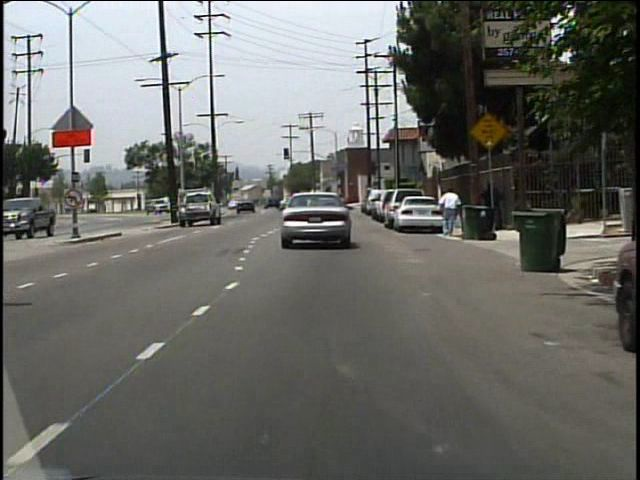person: (438, 186, 462, 239)
